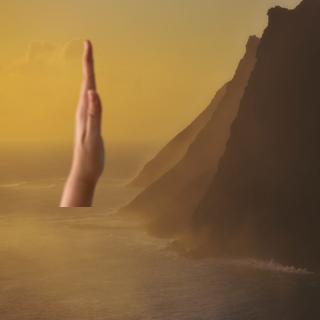Right: (60, 35, 118, 213)
